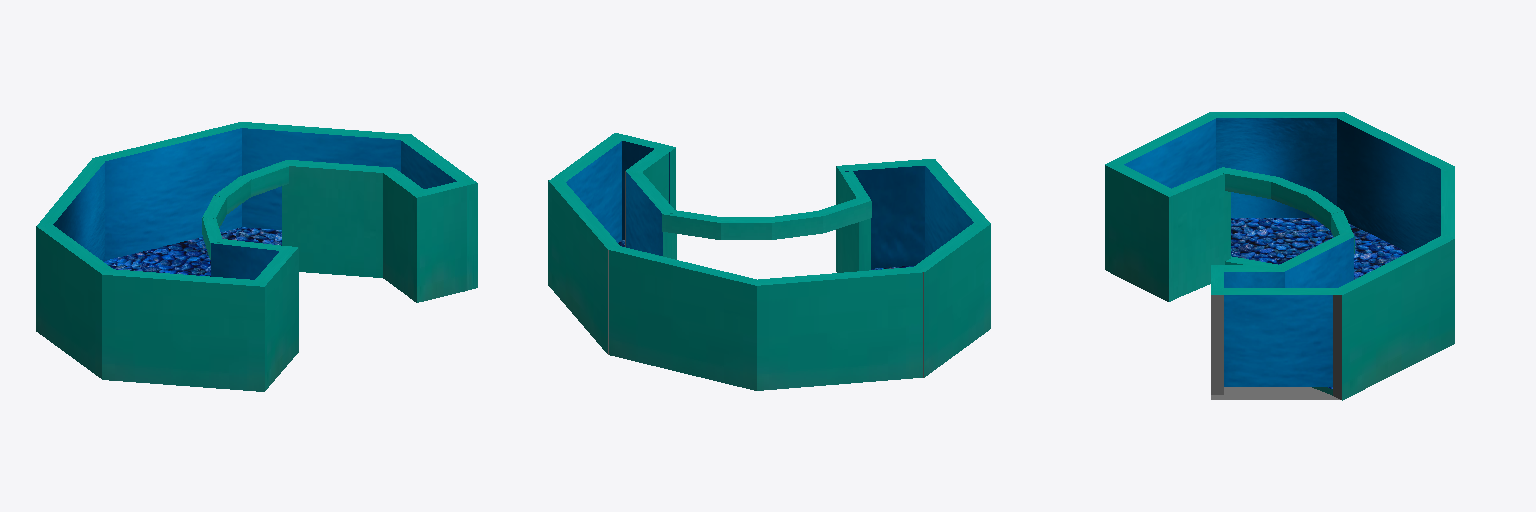
The picture shows the model from 3 angles: view 1: azimuth 30°, elevation 25°; view 2: azimuth 150°, elevation 25°; view 3: azimuth 270°, elevation 25°; orthographic projection.
Parts seen in each view (by area): view 1: area_peces:pCube12polySurface4polySurface4; view 2: area_peces:pCube12polySurface4polySurface4; view 3: area_peces:pCube12polySurface4polySurface4.
Part boxes in pixels (left/top/right/bottom): area_peces:pCube12polySurface4polySurface4: left=36, top=122, right=477, bottom=391; area_peces:pCube12polySurface4polySurface4: left=548, top=133, right=990, bottom=390; area_peces:pCube12polySurface4polySurface4: left=1105, top=112, right=1454, bottom=400.
Bounding box in the file's own units: 186 × 49.73 × 150.
Materials: 25 (3 with a texture image).